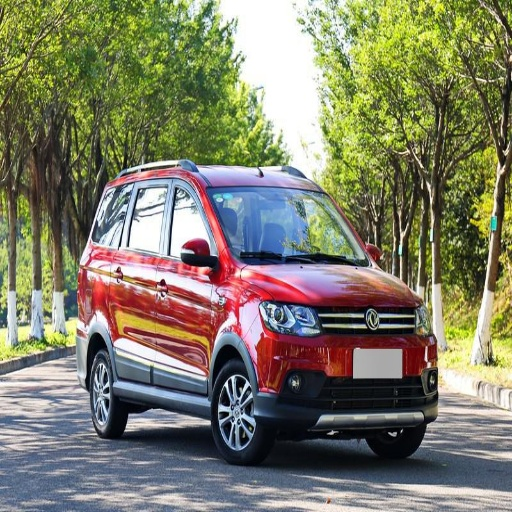front_bumper: (255, 306, 436, 429)
front_right_door: (153, 174, 221, 391)
front_right_light: (259, 300, 320, 336)
